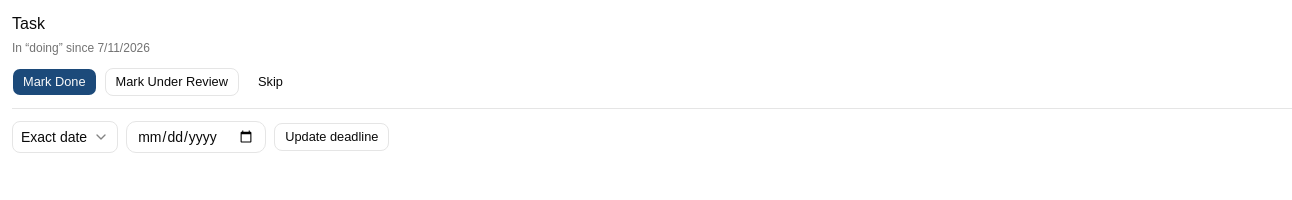
it: StaleTaskCard › surfaces an error when an action fails
Step 1. Click the button "Mark Done" → (54, 82), box [12, 68, 97, 96]
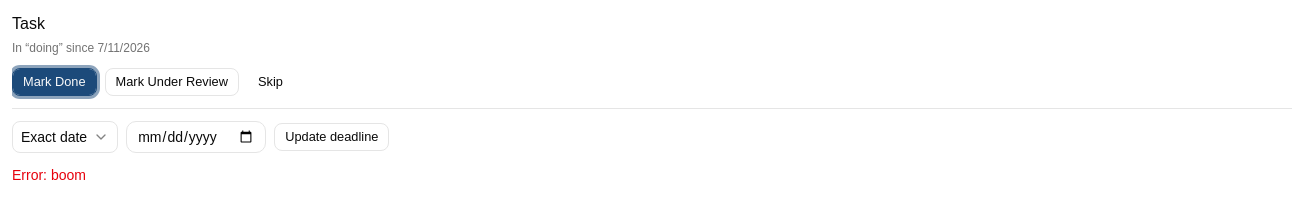
Expected: the text "Error: boom" is shown, [12, 167, 86, 183]
